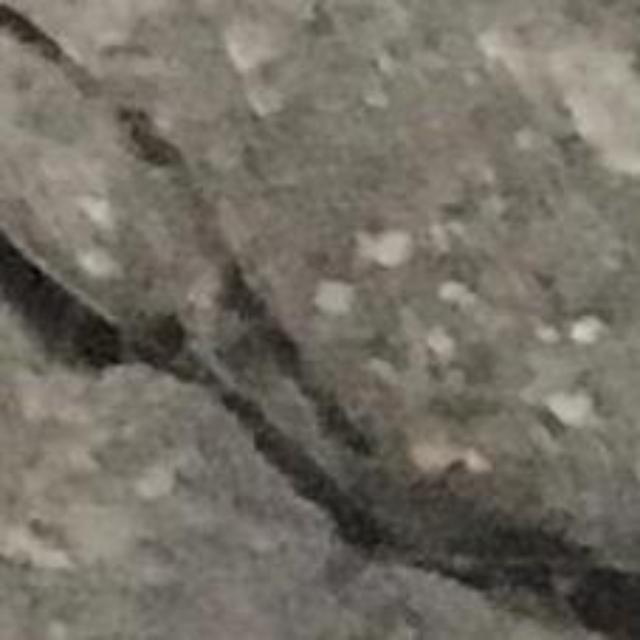crack: (0, 235, 639, 639), (0, 237, 639, 639), (0, 235, 583, 594), (0, 235, 572, 589), (0, 235, 389, 552), (77, 299, 383, 549), (0, 3, 211, 217), (218, 235, 372, 456), (218, 237, 372, 456), (206, 373, 389, 555), (392, 522, 639, 639), (226, 266, 374, 456), (0, 232, 186, 369), (387, 488, 597, 606), (0, 235, 121, 366), (0, 3, 101, 95), (570, 567, 639, 639), (0, 3, 70, 64), (116, 108, 183, 166), (119, 313, 188, 369)
